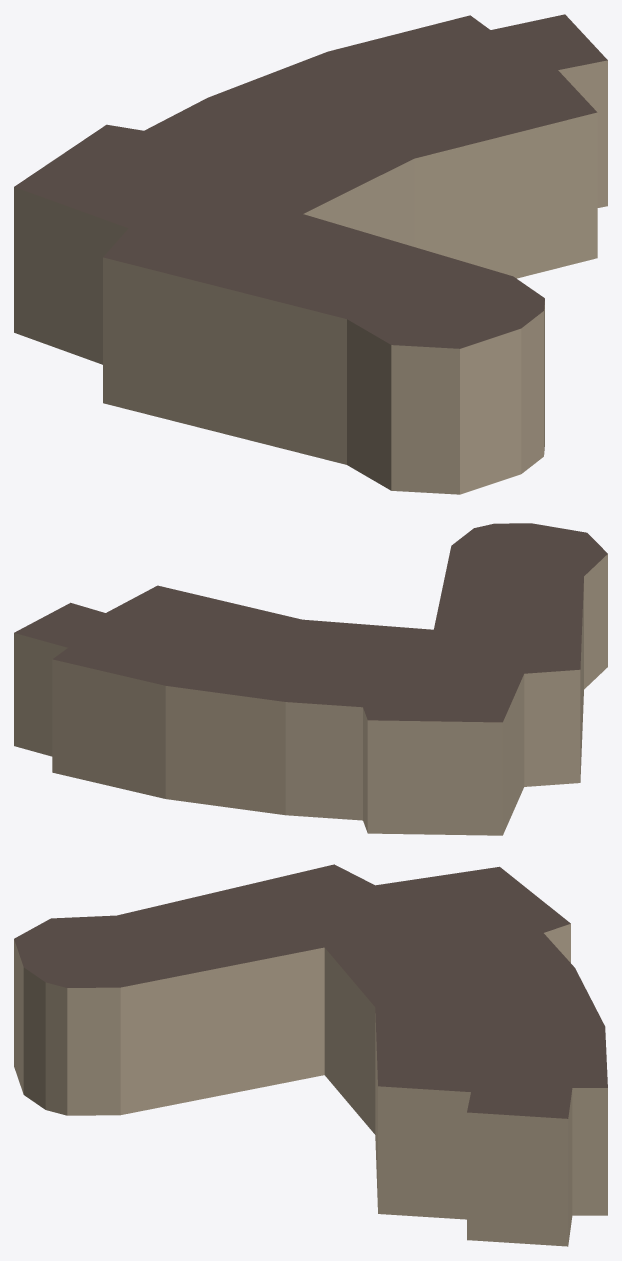
3 views of the same model, one above another, from view 1: azimuth 30°, elevation 25°; view 2: azimuth 150°, elevation 25°; view 3: azimuth 270°, elevation 25° (orthographic). The views are drawn at different scales.
Parts seen in each view (by area): view 1: HP-w1512530035; view 2: HP-w1512530035; view 3: HP-w1512530035.
Part boxes in pixels (box(x1,y1,x2,y2)): HP-w1512530035: box(14, 14, 607, 494); HP-w1512530035: box(14, 523, 607, 835); HP-w1512530035: box(14, 864, 607, 1246).
Size of the model in its own units: 38.48 by 9 by 37.95.
